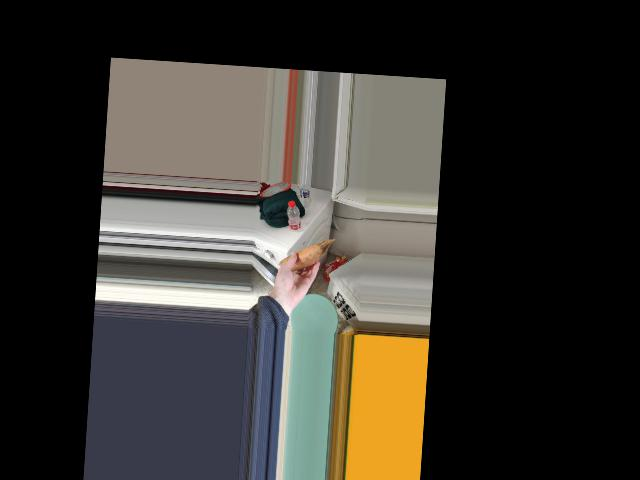sweet_potato: (284, 244, 318, 275)
